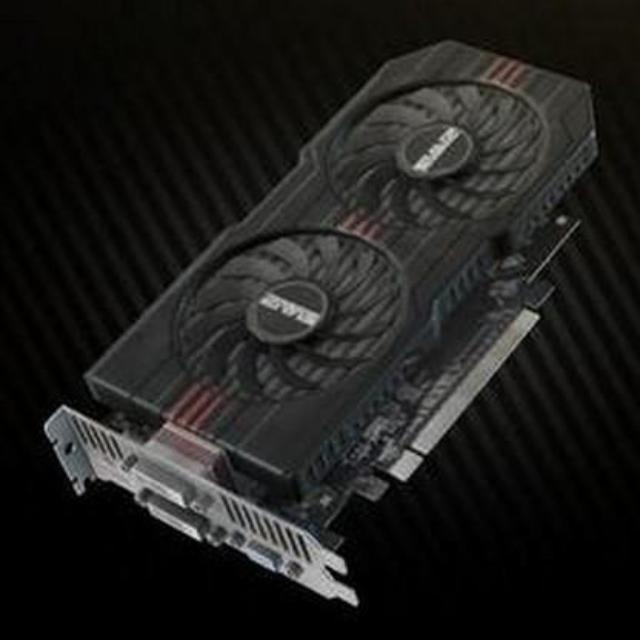GPU: (61, 31, 606, 558)
